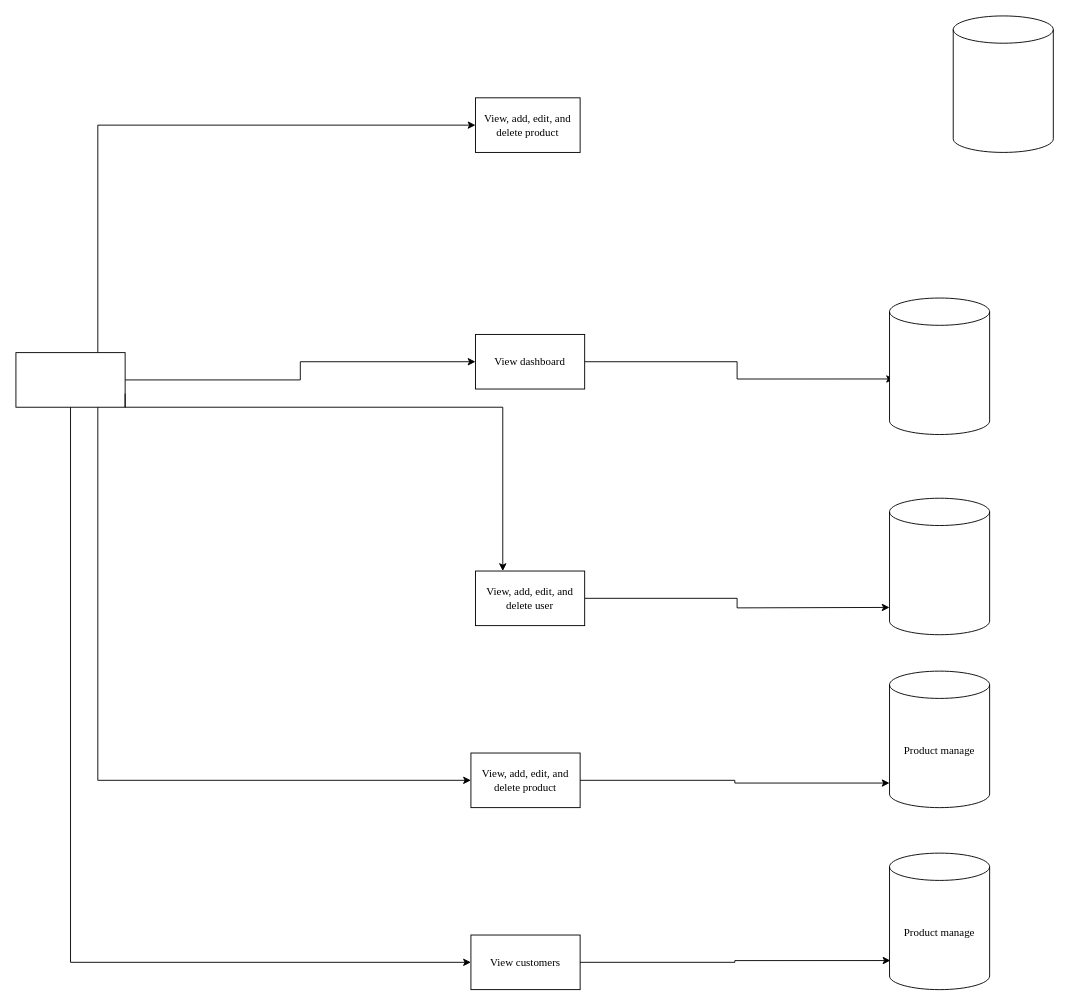
This 1069x1006 diagram has some shape labels left out. Here are the shapes that lost their labels. From the top down, the centre of each, then its label:
At point (1002, 83): "Category manage".
At point (70, 379): "Admin".
At point (939, 366): "Dashboard manage".
At point (939, 566): "User manage".
